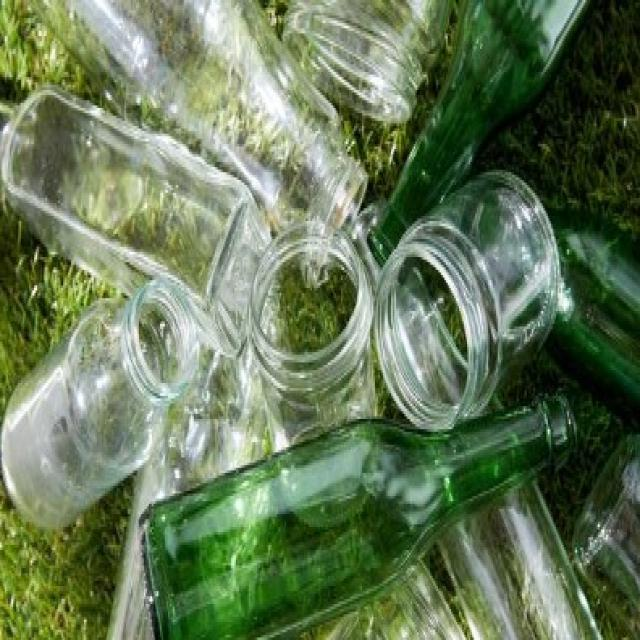electronic: (135, 379, 577, 640)
